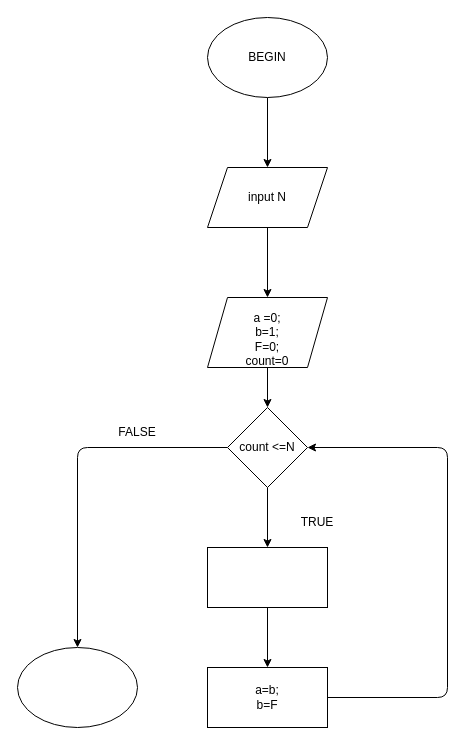
The diagram is 473 pixels wide and 745 high, and some of its shapes have lost their labels. The centre of each missing label's shape, as x and y in pixels:
END: (77,687)
F = a+b: (267,577)
